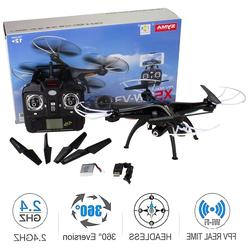drone: (75, 78, 246, 159), (14, 35, 130, 89)
